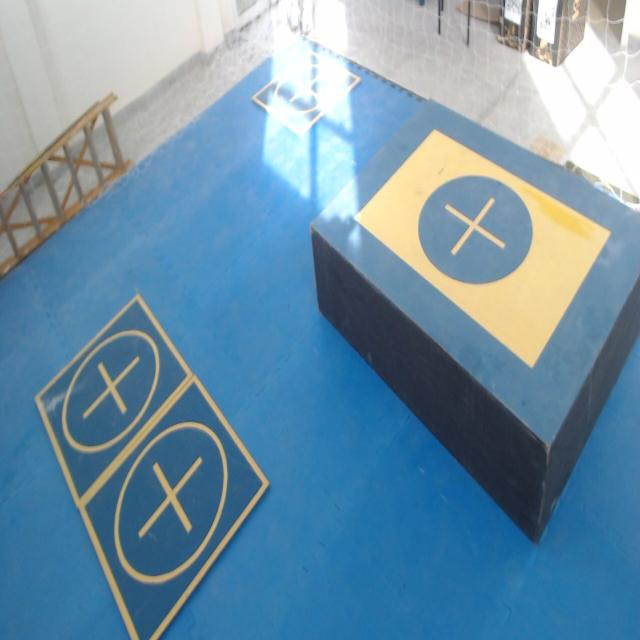base_inicio: (356, 130, 610, 371)
base_pouso: (78, 375, 270, 639), (34, 293, 195, 507)
